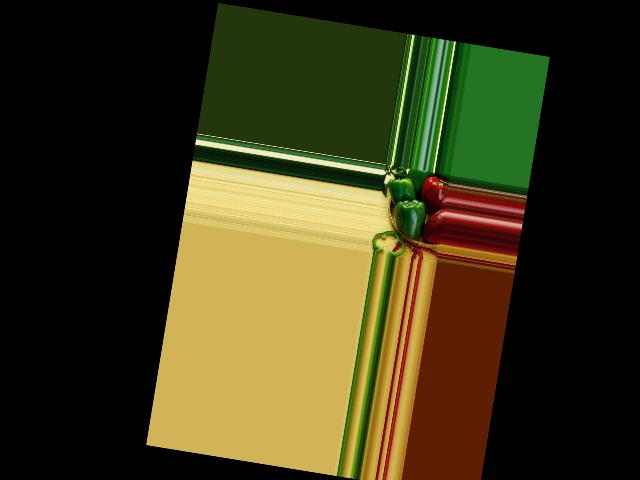bell_pepper: (422, 205, 445, 245)
